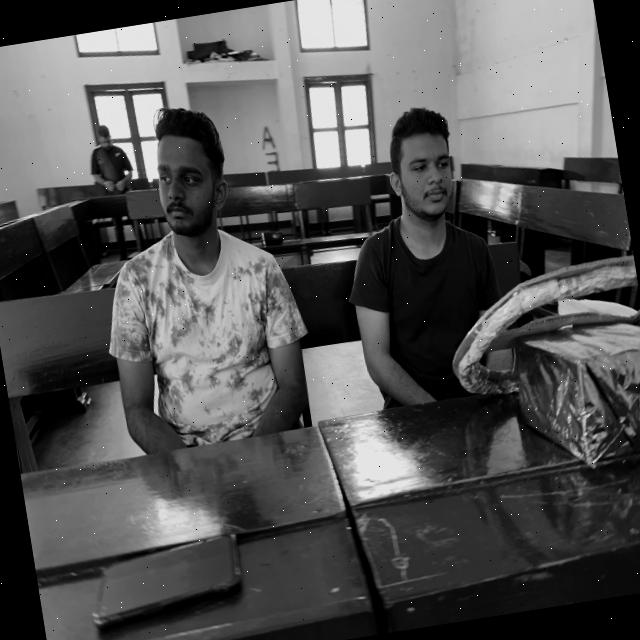no-seatbelt: (92, 222, 326, 478), (339, 210, 523, 424)
